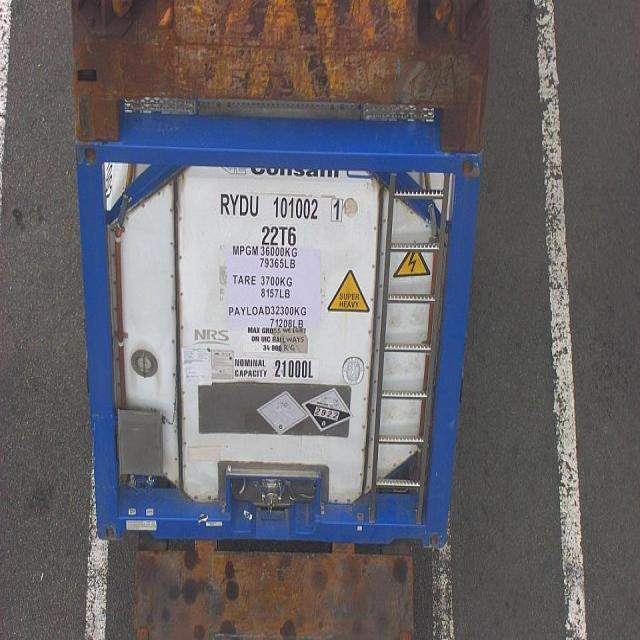ISO: (258, 225, 300, 247)
container_number: (220, 194, 350, 220)
